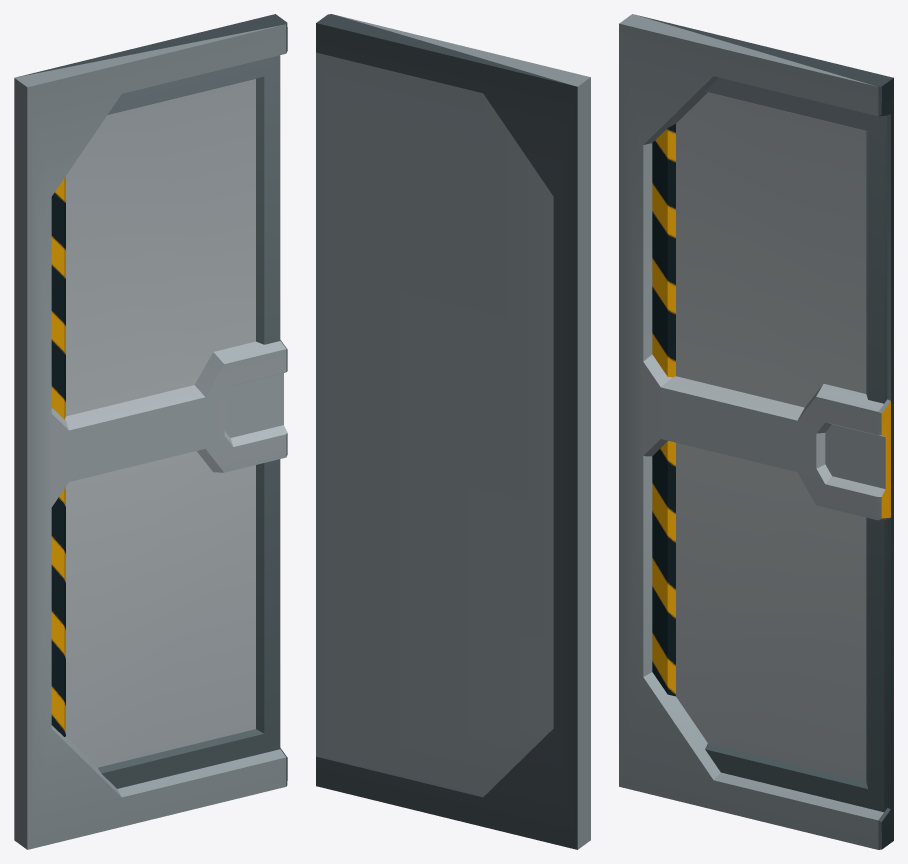
Rendered from Door_panel_006.fbx.
3 renders of one model, left to right at view 1: azimuth 30°, elevation 25°; view 2: azimuth 150°, elevation 25°; view 3: azimuth 330°, elevation 25°, orthographic.
Visible parts, largest first — view 1: Door_panel_006; view 2: Door_panel_006; view 3: Door_panel_006.
Boxes of the visible parts, bbox=[...] form: Door_panel_006: bbox=[14, 14, 287, 849]; Door_panel_006: bbox=[316, 14, 590, 849]; Door_panel_006: bbox=[619, 14, 893, 849].
Size of the model in its own units: 115 by 10 by 320.
